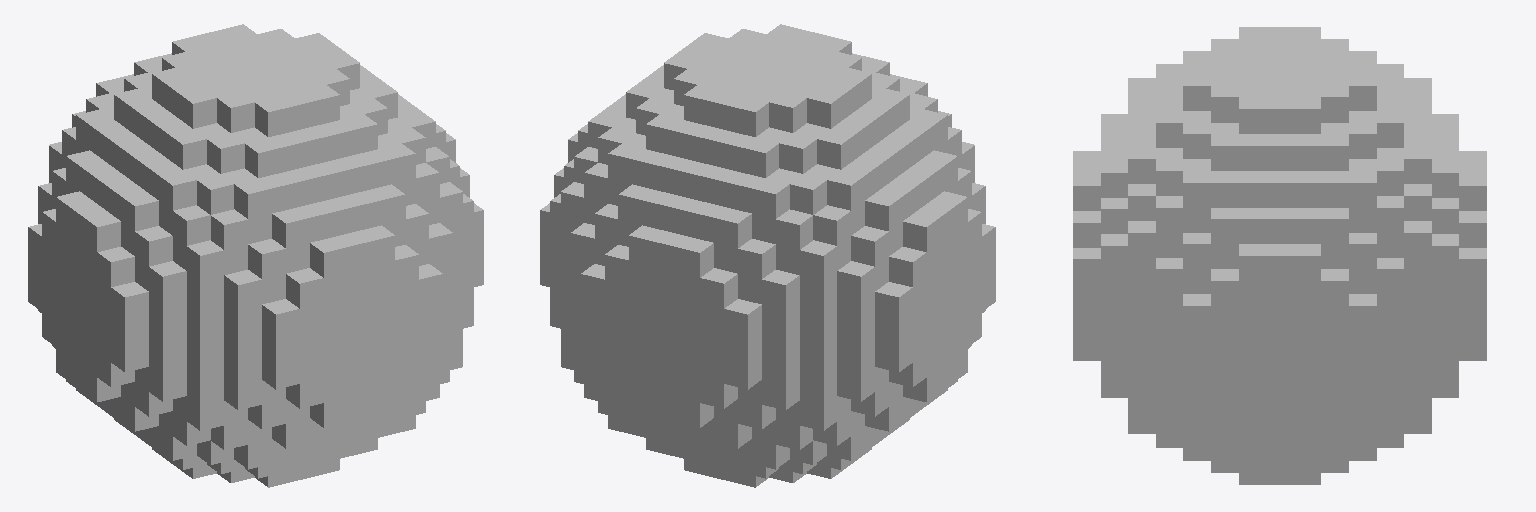
File: VoxelBall.obj
3 views of the same model, side by side, from view 1: azimuth 30°, elevation 25°; view 2: azimuth 150°, elevation 25°; view 3: azimuth 270°, elevation 25° (orthographic).
Parts seen in each view (by area): view 1: VoxelBall; view 2: VoxelBall; view 3: VoxelBall.
Boxes of the visible parts, box(x1,y1,x2,y2) form: VoxelBall: box(28, 24, 483, 487); VoxelBall: box(540, 24, 995, 487); VoxelBall: box(1073, 27, 1486, 484).
Size of the model in its own units: 1.94 by 1.94 by 1.94.